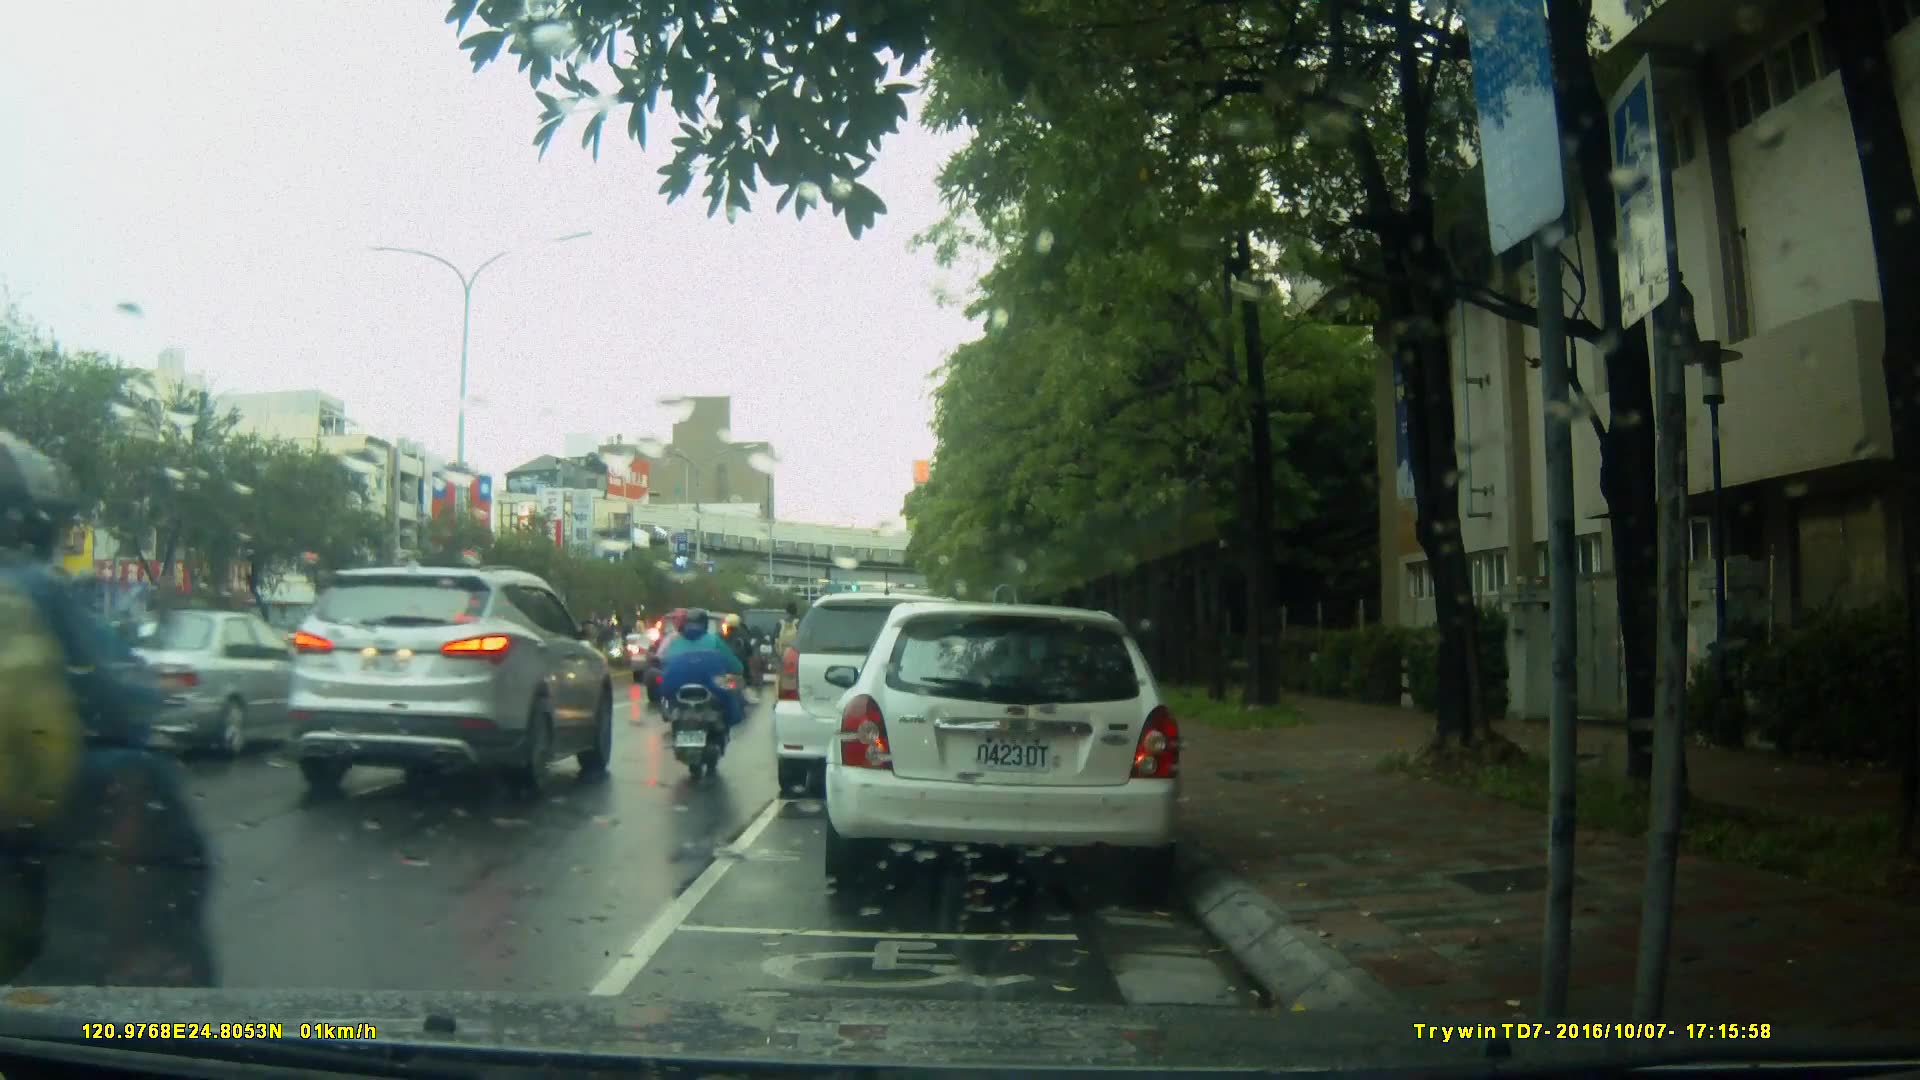rider: (1, 404, 197, 1061), (34, 564, 148, 777), (656, 609, 742, 772), (652, 603, 708, 751), (710, 610, 767, 719), (774, 600, 808, 714)
vehicle: (822, 604, 1188, 883), (277, 563, 620, 801), (774, 595, 995, 802), (54, 607, 322, 758), (643, 611, 751, 704)
